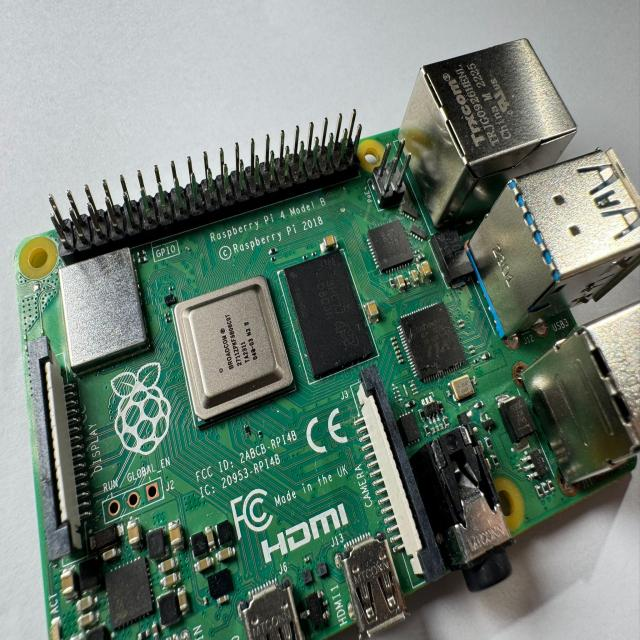CPU: (170, 274, 297, 428)
Ethernet: (395, 35, 588, 239)
GPIO: (46, 108, 362, 263)
RAM: (278, 248, 377, 381)
Raspberry: (15, 55, 640, 640)
micro-hdmi: (339, 533, 408, 640)
